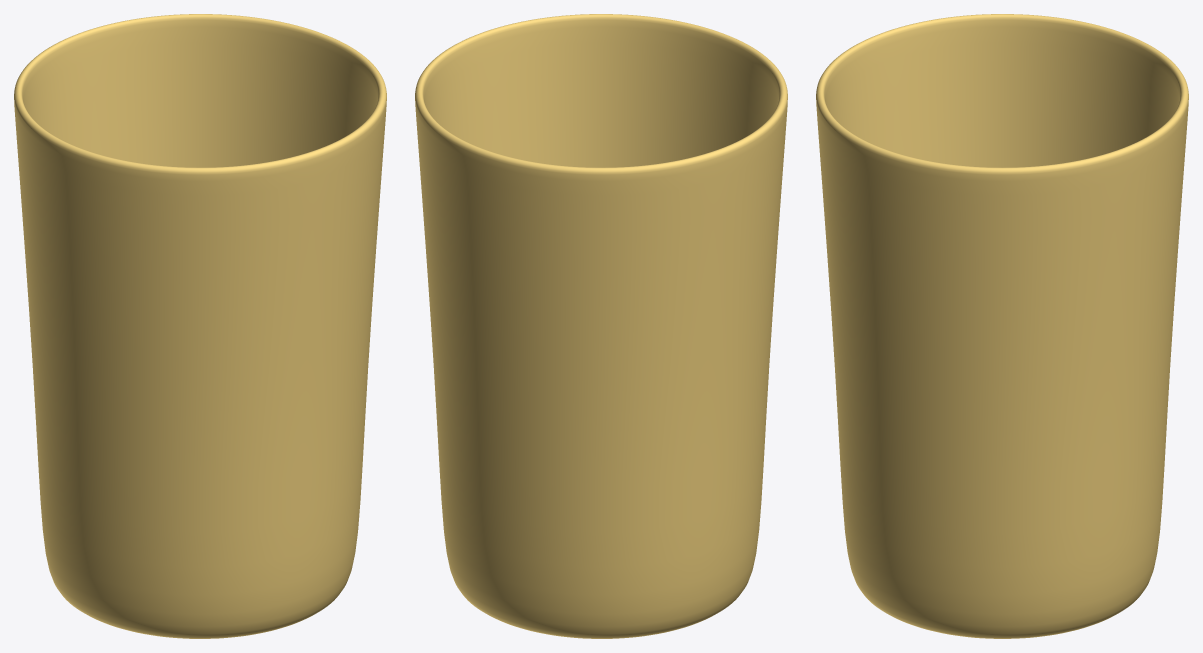
File: CupK.fbx
The picture shows the model from 3 angles, left to right: view 1: azimuth 30°, elevation 25°; view 2: azimuth 150°, elevation 25°; view 3: azimuth 270°, elevation 25°; orthographic projection.
Parts seen in each view (by area): view 1: Cylinder; view 2: Cylinder; view 3: Cylinder.
Part boxes in pixels (x1,y1,x2,y2): Cylinder: (14, 14, 386, 638); Cylinder: (415, 14, 787, 638); Cylinder: (816, 14, 1188, 638).
Bounding box in the file's own units: 254 × 368 × 254.
